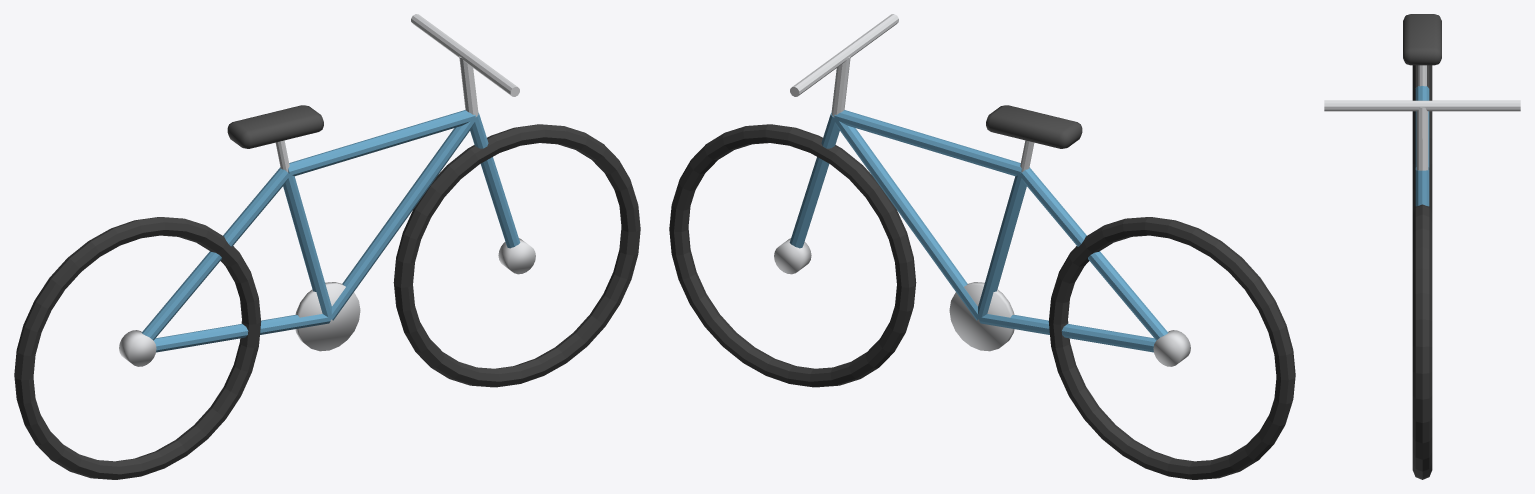
The model's file is bike.glb.
The picture shows the model from 3 angles, left to right: view 1: azimuth 30°, elevation 25°; view 2: azimuth 150°, elevation 25°; view 3: azimuth 270°, elevation 25°; orthographic projection.
Visible parts, largest first — view 1: Torus.001, Torus, Cylinder.004, Cylinder.006, Cylinder.003, Cube, Cylinder.011, Cylinder.005, Cylinder.002, Cylinder.007, Cylinder.009, Cylinder (+2 smaller); view 2: Torus.001, Torus, Cylinder.004, Cylinder.006, Cylinder.003, Cube, Cylinder.011, Cylinder.005, Cylinder.002, Cylinder.007, Cylinder.009, Cylinder (+2 smaller); view 3: Torus.001, Cylinder.009, Cube, Torus, Cylinder.008, Cylinder.007, Cylinder.003.
Boxes of the visible parts, x1,y1,x2,y2 form: Torus.001: (393,124,640,387); Torus: (14,217,261,479); Cylinder.004: (331,120,474,320); Cylinder.006: (141,167,290,340); Cylinder.003: (288,110,475,176); Cube: (227,105,323,148); Cylinder.011: (295,282,360,351); Cylinder.005: (153,314,330,352); Cylinder.002: (283,173,332,319); Cylinder.007: (470,112,520,248); Cylinder.009: (411,14,519,96); Cylinder: (119,330,156,366); Torus.001: (669,124,916,387); Torus: (1048,217,1295,479); Cylinder.004: (833,117,979,320); Cylinder.006: (1021,167,1168,340); Cylinder.003: (834,110,1021,176); Cube: (986,105,1082,148); Cylinder.011: (949,282,1014,351); Cylinder.005: (979,314,1156,352); Cylinder.002: (978,174,1026,317); Cylinder.007: (789,112,839,248); Cylinder.009: (790,14,898,96); Cylinder: (1153,330,1190,366); Torus.001: (1412,204,1432,479); Cylinder.009: (1324,100,1520,111); Cube: (1403,14,1441,65); Torus: (1412,65,1432,210); Cylinder.008: (1416,107,1428,170); Cylinder.007: (1415,170,1429,206); Cylinder.003: (1415,86,1429,169).
Size of the model in its own units: 1.81 by 0.959 by 0.5.
